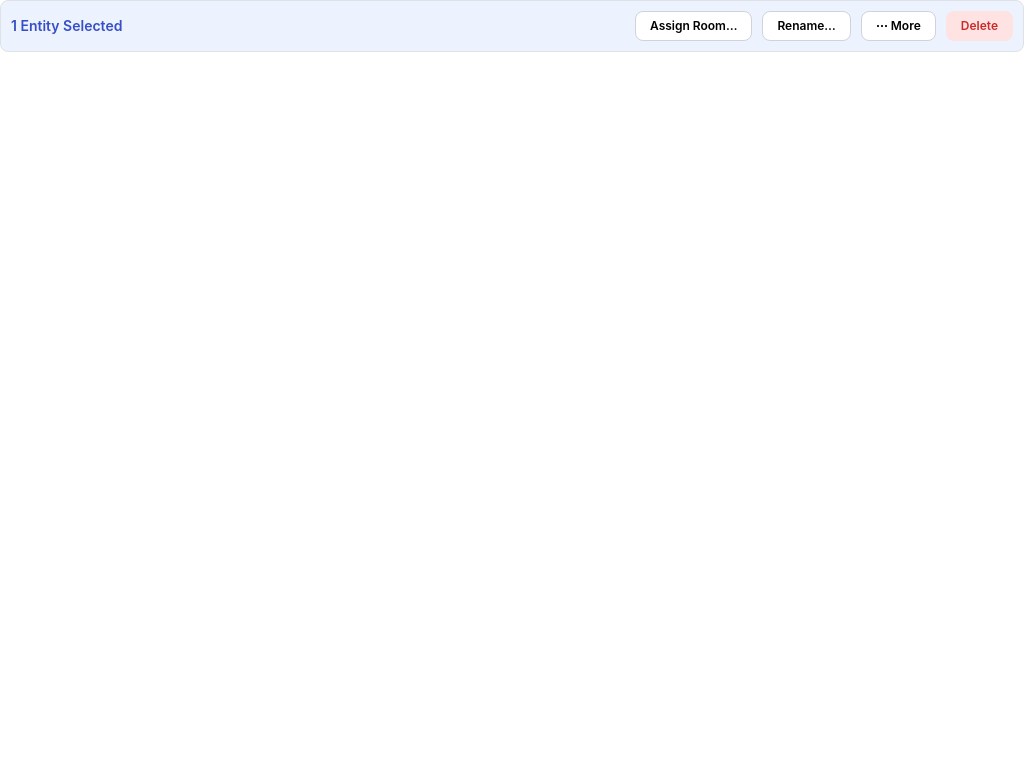
Test case: ActionRow (entities) › shows a Coming Soon modal when Rename is clicked (Plan 5 implements)
Click the button "Rename…".
click(807, 26)  # box left=762, top=11, right=851, bottom=41
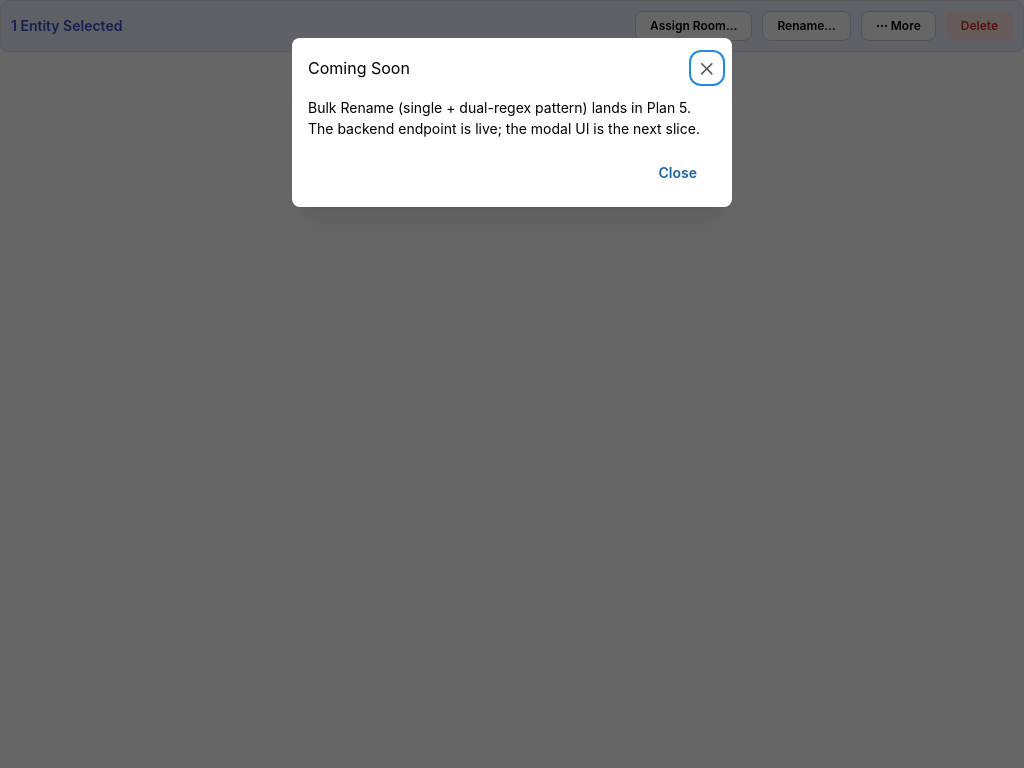
Now the heading "Coming Soon" is shown, box left=308, top=60, right=410, bottom=76
